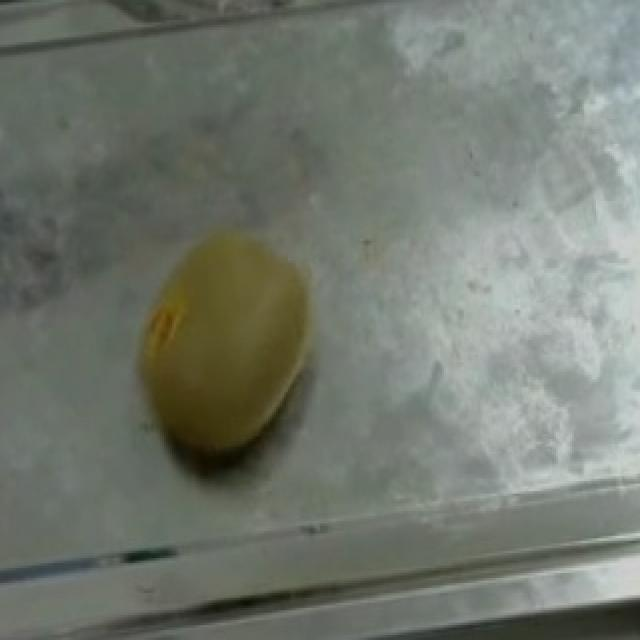Fruit: (116, 211, 336, 484)
